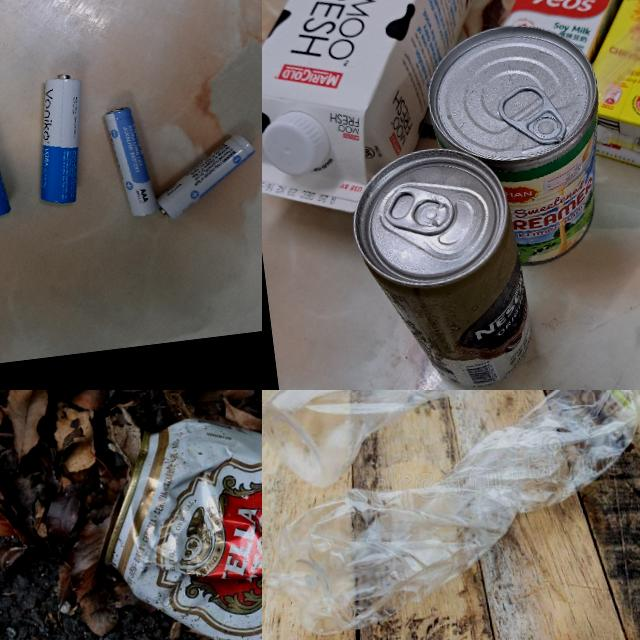aba de lata: (495, 81, 569, 151), (379, 182, 458, 240)
bateria: (149, 132, 262, 222), (25, 71, 94, 207), (104, 105, 158, 219)
caixinha: (262, 0, 526, 224), (567, 0, 640, 179), (494, 0, 640, 71)
garrafa plástica: (262, 390, 640, 640), (262, 390, 539, 494)
lata: (424, 16, 616, 278), (346, 139, 538, 390), (81, 390, 262, 640)
